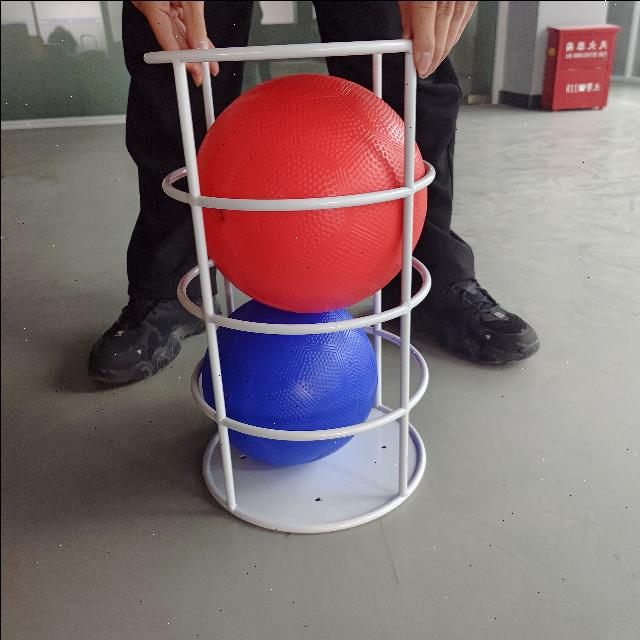B: (204, 300, 376, 468)
R: (186, 74, 440, 330)
S: (136, 32, 432, 524)
